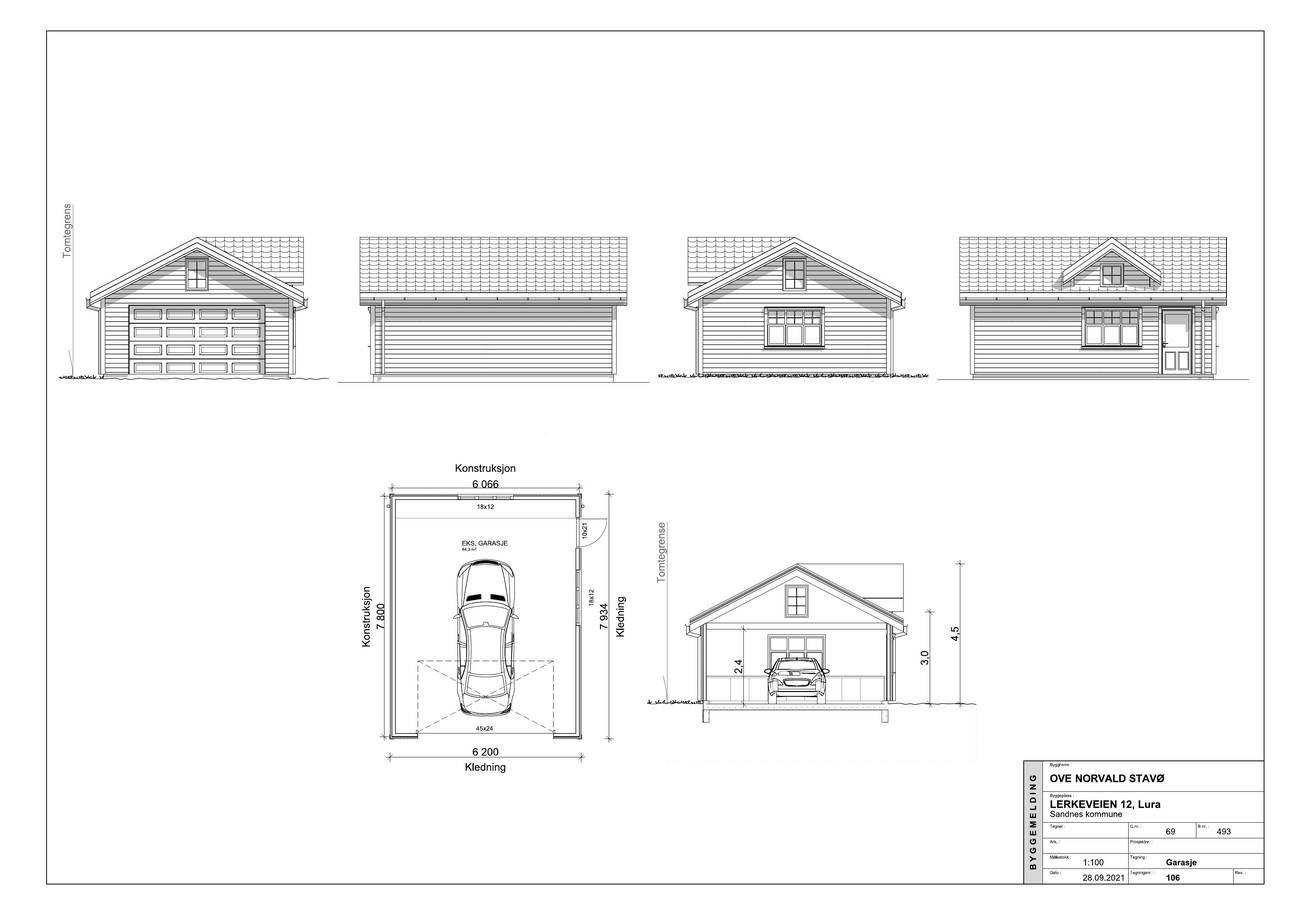fasade: (357, 234, 631, 386), (958, 235, 1229, 384), (83, 234, 310, 385), (682, 234, 907, 383)
plantegning: (381, 485, 609, 743)
snitt: (682, 562, 911, 728)
